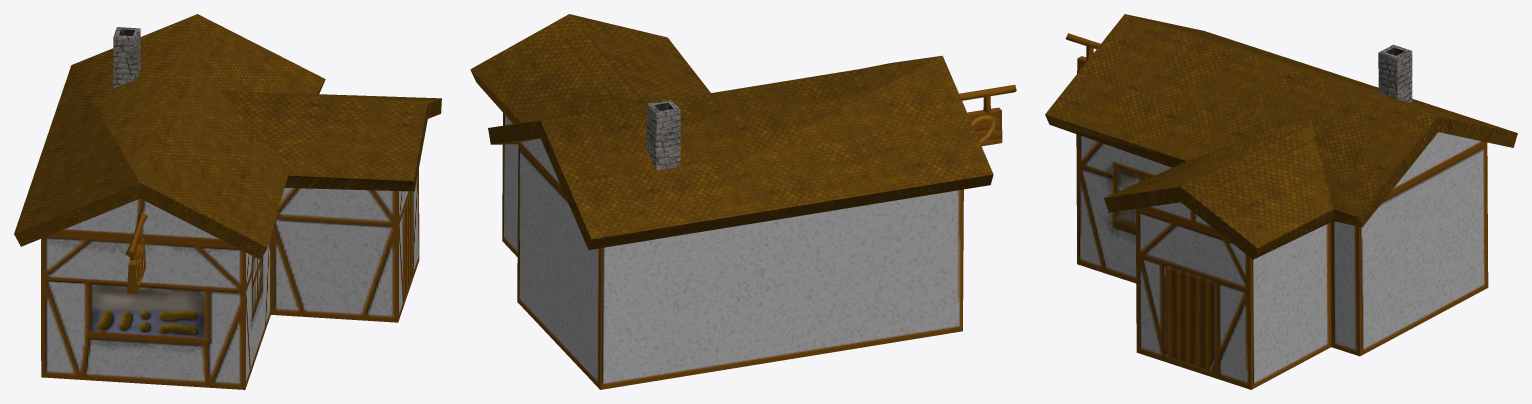
The model's file is bakery3.gltf.
3 views of the same model, side by side, from view 1: azimuth 30°, elevation 25°; view 2: azimuth 150°, elevation 25°; view 3: azimuth 270°, elevation 25° (orthographic). The views are drawn at different scales.
Parts seen in each view (by area): view 1: cube1_cube1_auv, cube1_cube3_auv, cube1_cube2_auv; view 2: cube1_cube1_auv, cube1_cube3_auv, cube1_cube2_auv; view 3: cube1_cube1_auv, cube1_cube3_auv, cube1_cube2_auv.
Part boxes in pixels (x1,y1,x2,y2): cube1_cube1_auv: (14, 14, 441, 389); cube1_cube3_auv: (113, 27, 140, 88); cube1_cube2_auv: (125, 212, 147, 294); cube1_cube1_auv: (470, 14, 993, 389); cube1_cube3_auv: (646, 100, 680, 170); cube1_cube2_auv: (959, 84, 1016, 146); cube1_cube1_auv: (1045, 14, 1517, 389); cube1_cube3_auv: (1378, 44, 1412, 102); cube1_cube2_auv: (1065, 33, 1100, 73).
Bounding box in the file's own units: 3.11 × 1.51 × 2.79.
3 materials, 3 textured.
